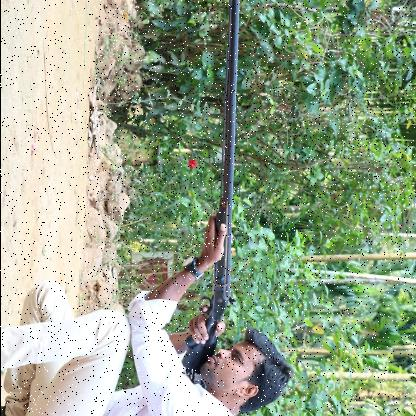rifle: (179, 0, 240, 386)
